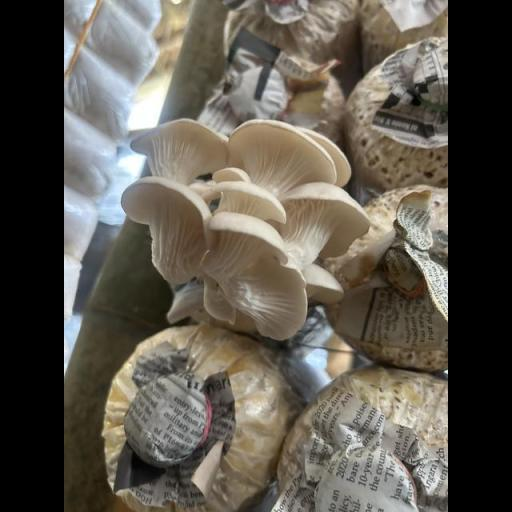White Oyster Mushroom: (108, 104, 384, 346)
